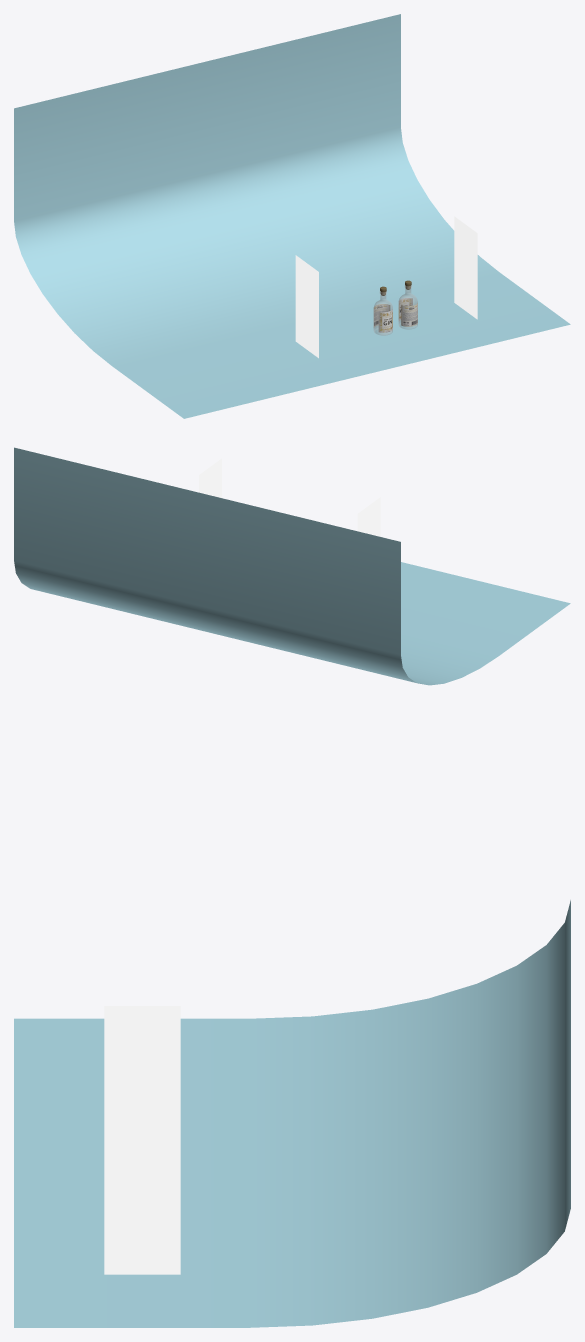
Rendered from ginbottle.glb.
3 views of the same model, one above another, from view 1: azimuth 30°, elevation 25°; view 2: azimuth 150°, elevation 25°; view 3: azimuth 270°, elevation 25° (orthographic). The views are drawn at different scales.
Parts seen in each view (by area): view 1: Plane, Plane.001, Plane.002, Circle.002, Circle; view 2: Plane, Plane.001, Plane.002; view 3: Plane, Plane.002, Plane.001.
Part boxes in pixels (x1,y1,x2,y2): Plane: (14, 14, 570, 418); Plane.001: (295, 255, 318, 358); Plane.002: (454, 216, 477, 319); Circle.002: (373, 291, 392, 335); Circle: (398, 285, 417, 329); Plane: (14, 447, 570, 685); Plane.001: (357, 497, 380, 536); Plane.002: (199, 458, 221, 497); Plane: (14, 900, 570, 1327); Plane.002: (104, 1133, 180, 1274); Plane.001: (104, 1006, 180, 1132).
Bounding box in the file's own units: 19.21 × 8.83 × 14.63.
Materials: 5 (1 with a texture image).
